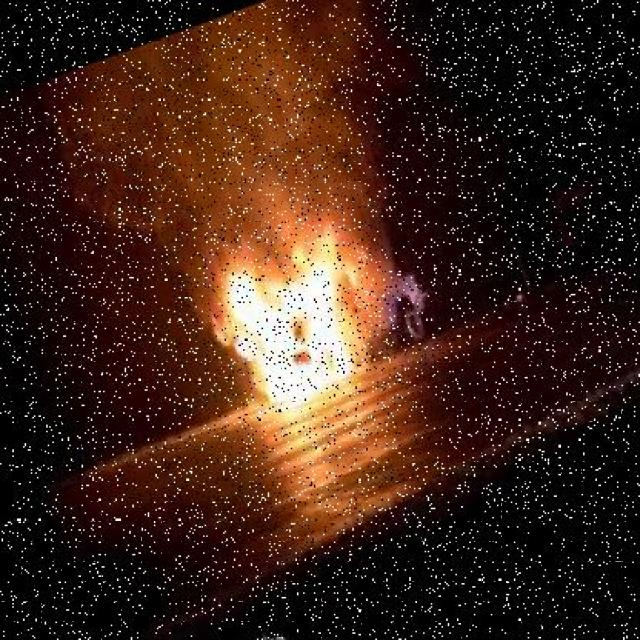fire: (171, 169, 420, 420)
